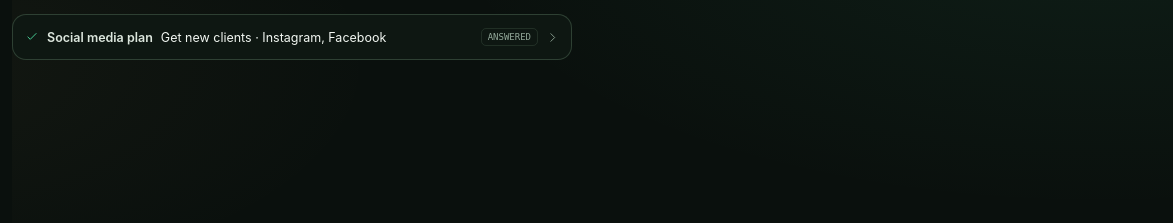
Test: Ada choice cards › folds once answered and opens to show the answers
The width and height of the screenshot is (1173, 223).
Click the button.
click(292, 37)  # box 13,15 -> 571,59
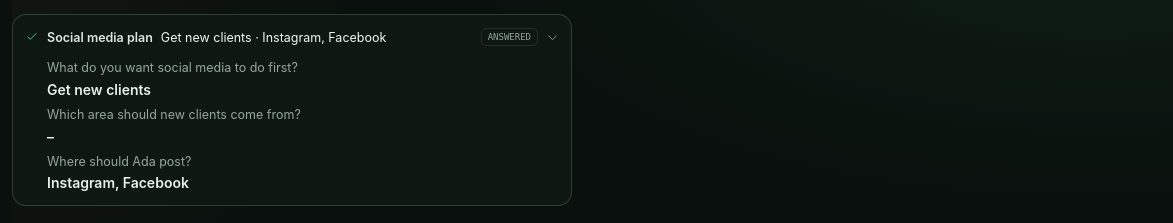
Now the text "Where should Ada post?" is shown, box 47,154 -> 191,168
